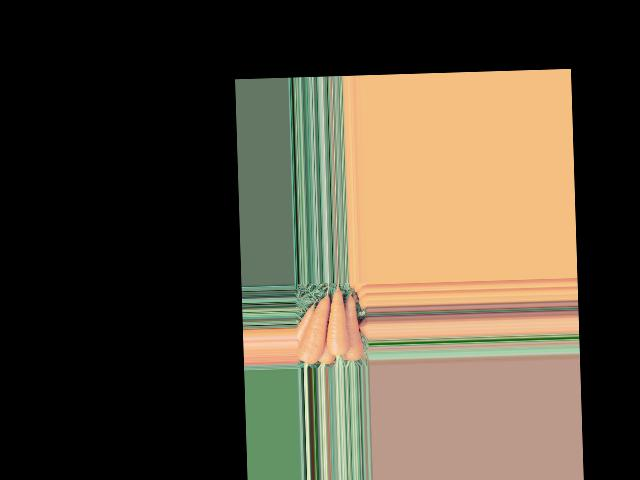carrot: (298, 292, 333, 363)
